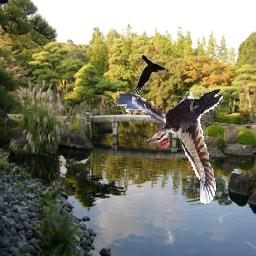Crow: (136, 56, 169, 95)
Woodpecker: (113, 90, 224, 205)
